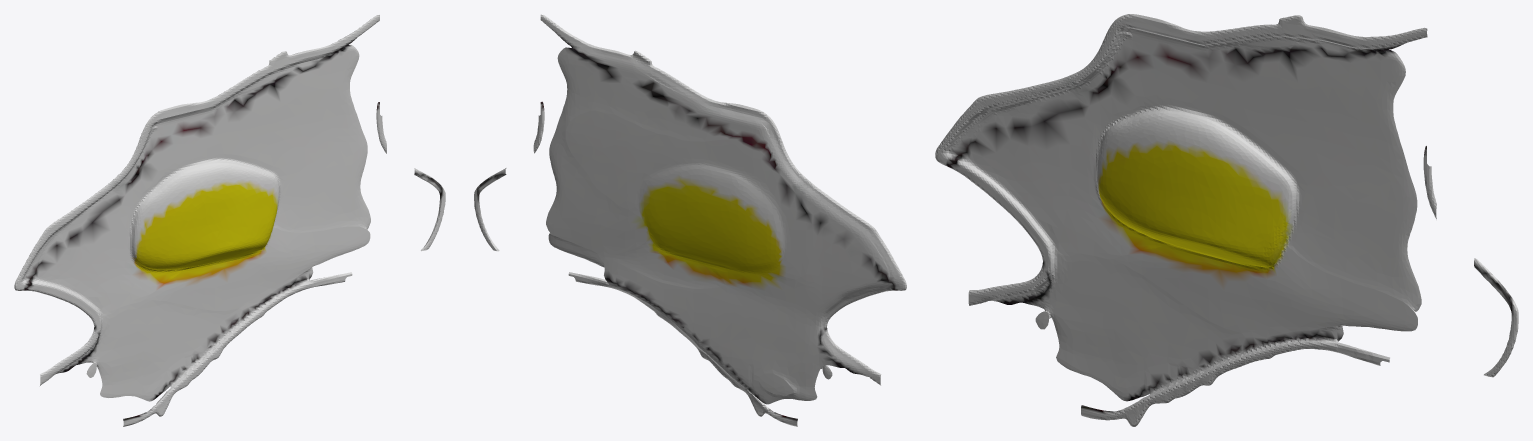
Rendered from fried_egg.glb.
The picture shows the model from 3 angles, left to right: view 1: azimuth 30°, elevation 25°; view 2: azimuth 150°, elevation 25°; view 3: azimuth 330°, elevation 25°; orthographic projection. The views are drawn at different scales.
Parts seen in each view (by area): view 1: geometry_0; view 2: geometry_0; view 3: geometry_0.
Boxes of the visible parts, left/top/right/bottom form: geometry_0: left=14, top=15, right=445, bottom=426; geometry_0: left=474, top=14, right=906, bottom=426; geometry_0: left=935, top=14, right=1518, bottom=426.
Size of the model in its own units: 0.875 by 0.6779 by 0.0446.
